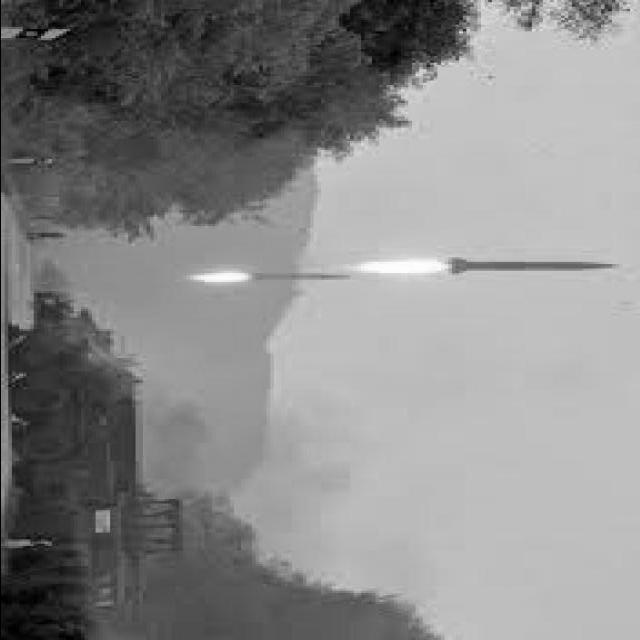missile: (437, 254, 623, 275), (223, 268, 357, 284)
